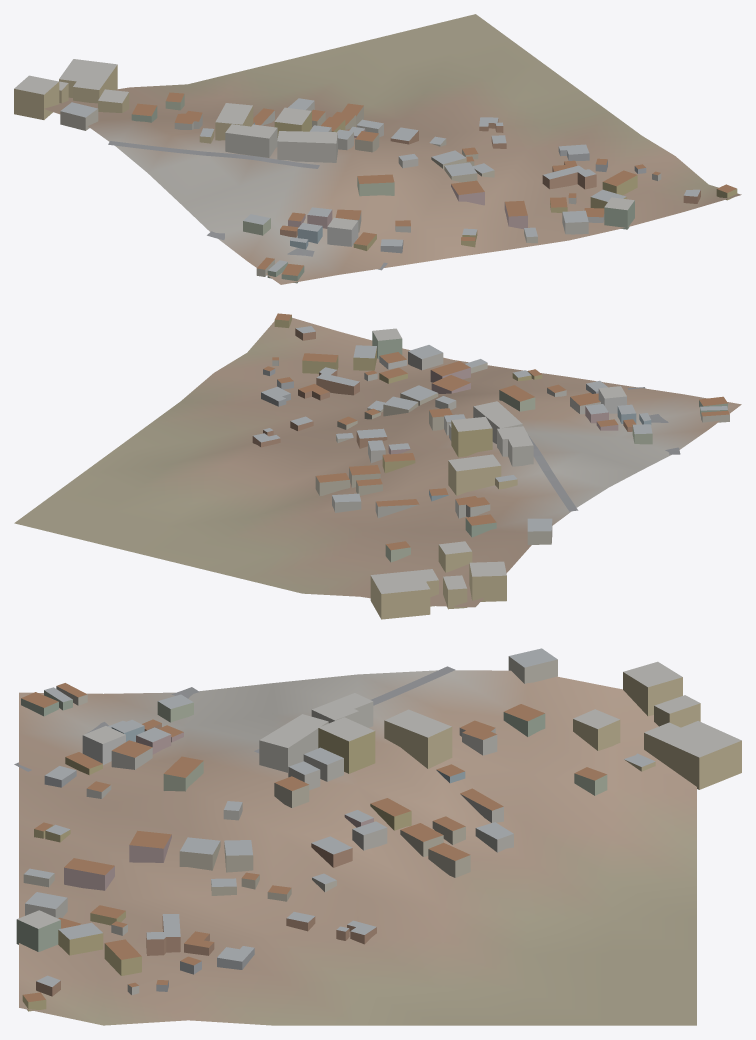
3 renders of one model, top to bottom at view 1: azimuth 30°, elevation 25°; view 2: azimuth 150°, elevation 25°; view 3: azimuth 270°, elevation 25°, orthographic. The views are drawn at different scales.
Parts seen in each view (by area): view 1: Lo; view 2: Lo; view 3: Lo.
Part boxes in pixels (x1,y1,x2,y2): Lo: (14,14,741,284); Lo: (14,313,741,619); Lo: (14,648,741,1025).
Bounding box in the file's own units: 265 × 40.52 × 275.
